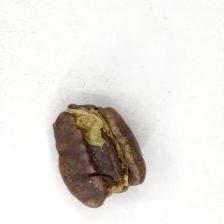NG: (62, 107, 146, 205)
